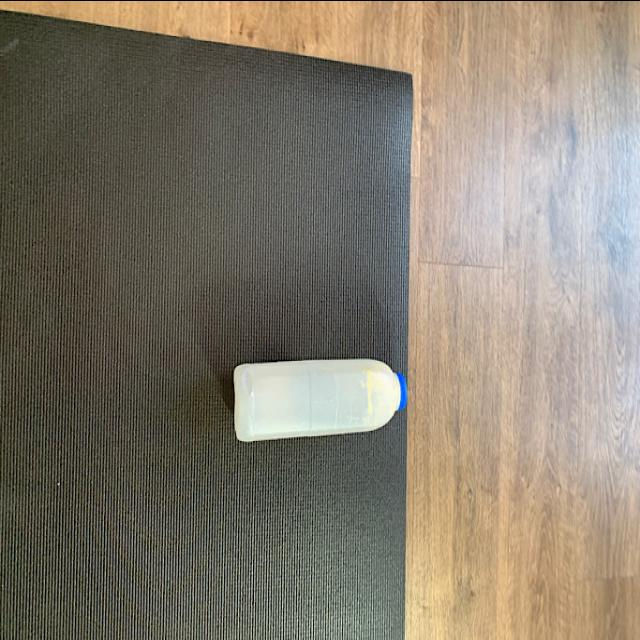litter: (234, 352, 412, 444)
